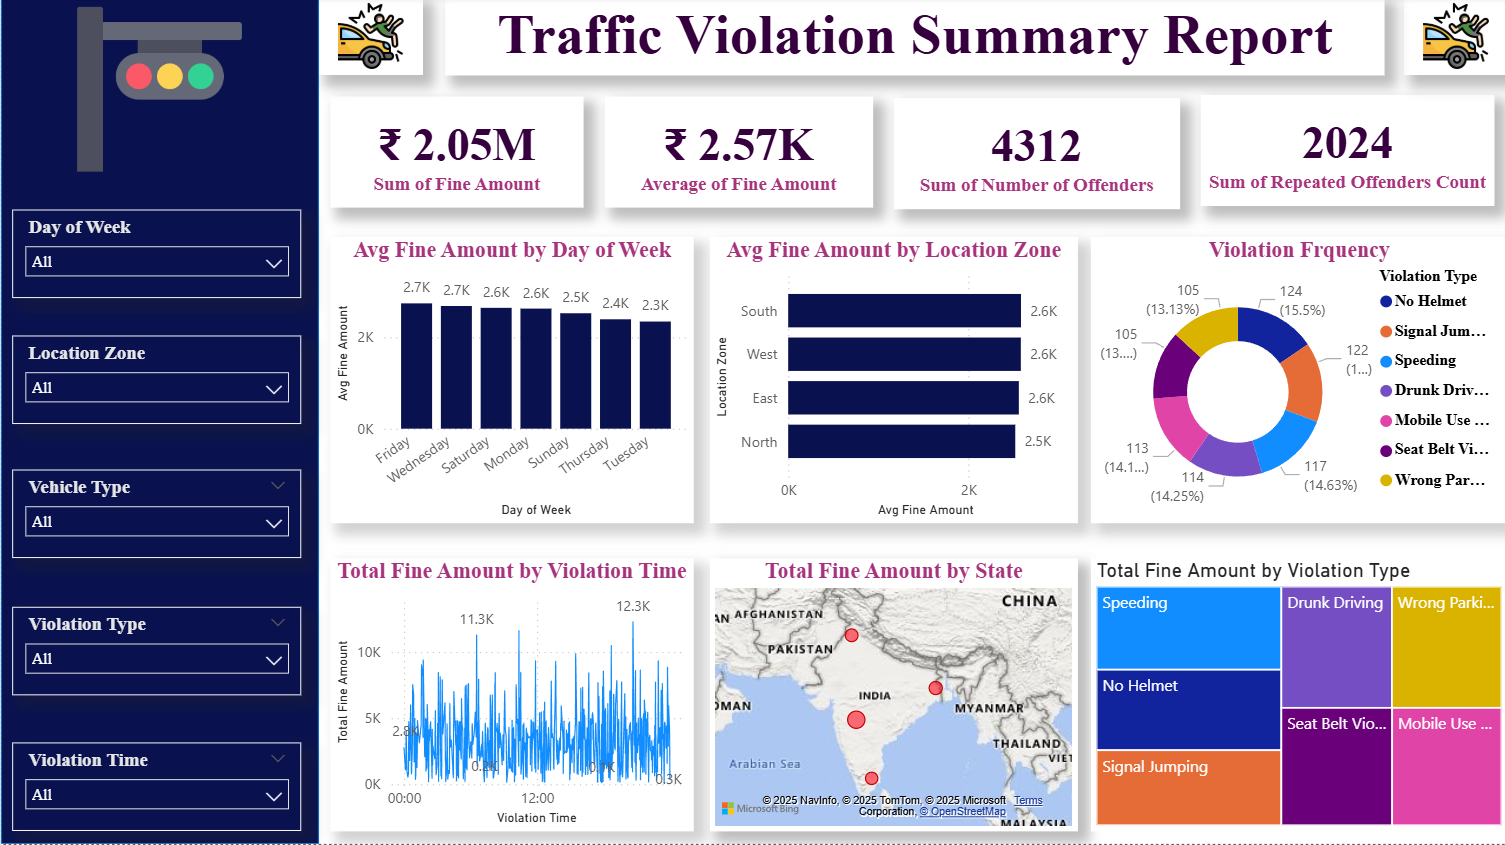

Layout of this report page (visuals, bound fields, positions):
{"tool":"powerbi","page":{"name":"Page 1","canvas":[1280,720],"ordinal":0},"visuals":[{"type":"textbox","box":[377.4,0,798.6,67.2],"z":0},{"type":"shape","box":[0,0,270.3,720.4],"z":1000},{"type":"card","fields":{"Values":["Sum(traffic_violation.Fine Amount)"]},"box":[279.9,85.1,215.4,94.7],"z":2000},{"type":"card","fields":{"Values":["Avg(traffic_violation.Fine Amount)"]},"box":[513.2,85.1,227.8,94.7],"z":3000},{"type":"card","fields":{"Values":["Sum(traffic_violation.Number of Offenders)"]},"box":[758.8,86.4,242.9,94.7],"z":4000},{"type":"card","fields":{"Values":["Sum(traffic_violation.Repeated Offenders Count)"]},"box":[1019.6,83.7,249.7,94.7],"z":5000},{"type":"columnChart","fields":{"Category":["traffic_violation.Day of Week"],"Y":["Measures Table.Avg Fine Amount"]},"box":[279.9,204.5,308.7,242.9],"z":6000},{"type":"barChart","fields":{"Y":["Measures Table.Avg Fine Amount"],"Category":["traffic_violation.Location Zone"]},"box":[602.4,204.5,312.9,242.9],"z":7000},{"type":"donutChart","title":" Violation Frquency","fields":{"Category":["traffic_violation.Violation Type"],"Y":["CountNonNull(traffic_violation.Violation Type)"]},"box":[926.2,204.5,343.1,242.9],"z":8000},{"type":"lineChart","fields":{"Category":["traffic_violation.Violation Time"],"Y":["Measures Table.Total Fine Amount"]},"box":[279.9,477.5,308.7,231.9],"z":9000},{"type":"slicer","fields":{"Values":["traffic_violation.Day of Week"]},"box":[9.6,181.1,245.6,75.5],"z":10000},{"type":"slicer","fields":{"Values":["traffic_violation.Location Zone"]},"box":[9.6,288.2,245.6,75.5],"z":11000},{"type":"slicer","fields":{"Values":["traffic_violation.Vehicle Type"]},"box":[9.6,402.1,245.6,75.5],"z":12000},{"type":"slicer","fields":{"Values":["traffic_violation.Violation Type"]},"box":[9.6,518.7,245.6,75.5],"z":13000},{"type":"slicer","fields":{"Values":["traffic_violation.Violation Time"]},"box":[9.6,634,245.6,75.5],"z":14000},{"type":"map","fields":{"Category":["traffic_violation.State"],"Size":["Measures Table.Total Fine Amount"]},"box":[602.4,477.5,312.9,231.9],"z":15000},{"type":"treemap","fields":{"Group":["traffic_violation.Violation Type"],"Values":["Measures Table.Total Fine Amount"]},"box":[926.2,477.5,343.1,231.9],"z":16000},{"type":"image","box":[270.3,0,87.8,67.2],"z":17000},{"type":"image","box":[1192.5,0,87.8,67.2],"z":18000},{"type":"image","box":[0,4.1,270.3,149.6],"z":19000}]}

Visuals, with their boxes in screenshot pixels (x1, y1, x2, y2), scaled from the page's 1280x720 canvas onto the 1505x845 screenshot:
textbox: 444,0,1383,79
shape: 0,0,318,844
card - Sum(traffic_violation.Fine Amount): 329,100,582,211
card - Avg(traffic_violation.Fine Amount): 603,100,871,211
card - Sum(traffic_violation.Number of Offenders): 892,101,1178,213
card - Sum(traffic_violation.Repeated Offenders Count): 1199,98,1492,209
columnChart - traffic_violation.Day of Week x Measures Table.Avg Fine Amount: 329,240,692,525
barChart - Measures Table.Avg Fine Amount x traffic_violation.Location Zone: 708,240,1076,525
" Violation Frquency" donutChart: 1089,240,1492,525
lineChart - traffic_violation.Violation Time x Measures Table.Total Fine Amount: 329,560,692,833
slicer - traffic_violation.Day of Week: 11,213,300,301
slicer - traffic_violation.Location Zone: 11,338,300,427
slicer - traffic_violation.Vehicle Type: 11,472,300,561
slicer - traffic_violation.Violation Type: 11,609,300,697
slicer - traffic_violation.Violation Time: 11,744,300,833
map - traffic_violation.State x Measures Table.Total Fine Amount: 708,560,1076,833
treemap - traffic_violation.Violation Type x Measures Table.Total Fine Amount: 1089,560,1492,833
image: 318,0,421,79
image: 1402,0,1504,79
image: 0,5,318,180
